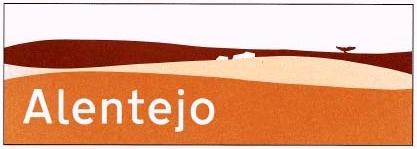Regiao: (1, 0, 417, 148)
